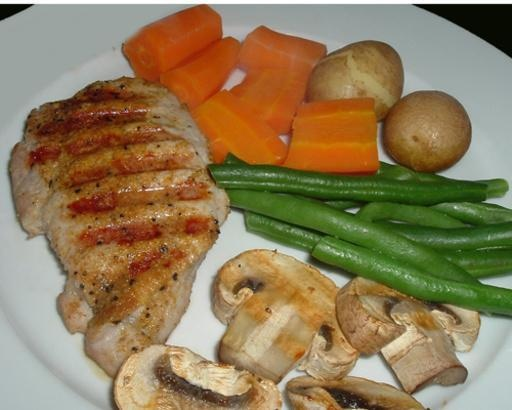background: (6, 2, 409, 262)
